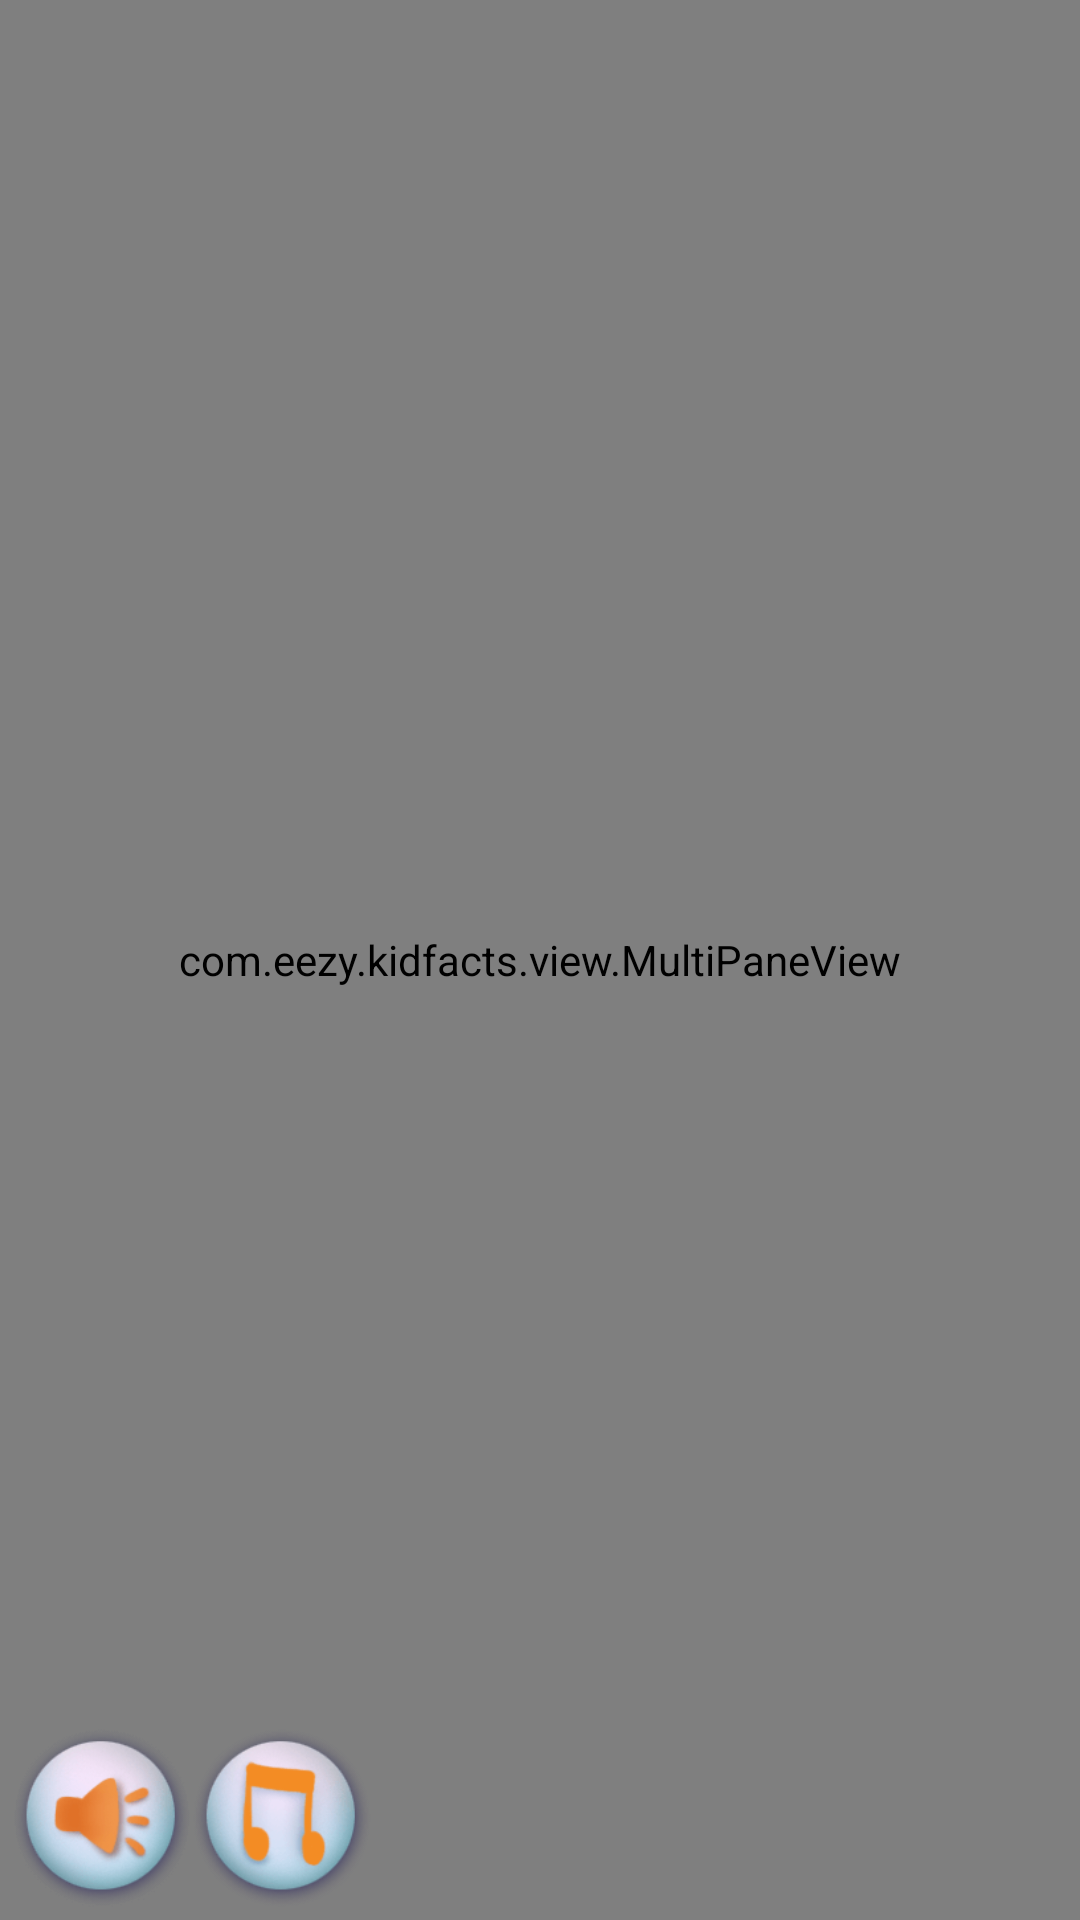

Named icons in this screenshot (1080w x 1920h) and their bounding boxes, Rect(x1, y1, x2, y2):
music on: Rect(205, 1741, 359, 1895)
sound on: Rect(25, 1741, 179, 1895)
